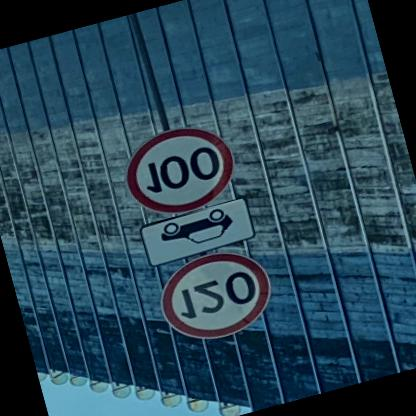speedlimit: (151, 244, 279, 352), (115, 117, 241, 226)
